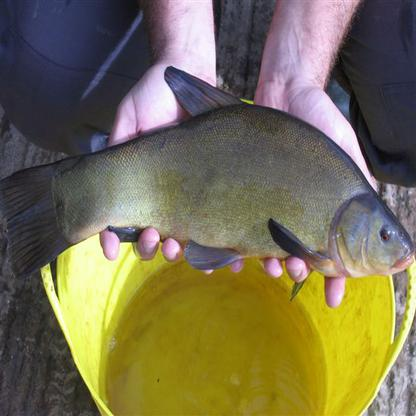fish: (2, 64, 416, 281)
